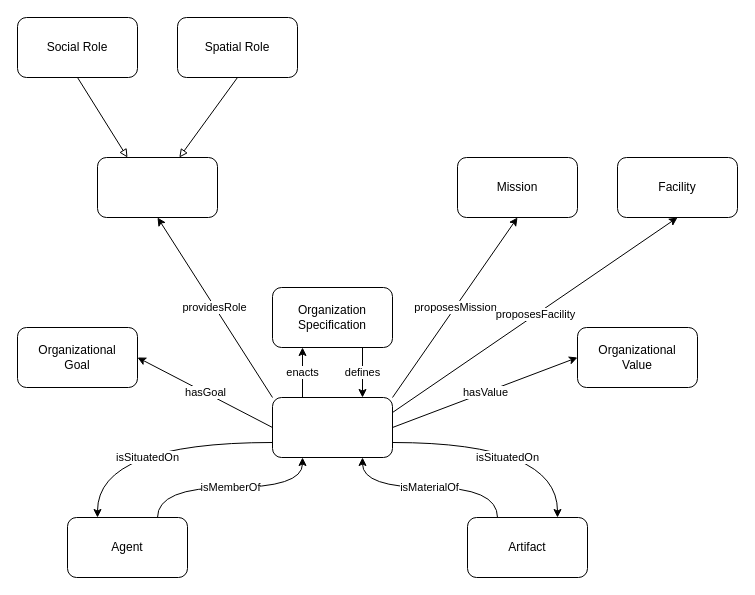
Some shapes in this 755 by 595 pixel diagram are drawn without their labels. Each missing label, with the centre of its shape:
"Organization" belongs at [332,427].
"Role" belongs at [157,187].
